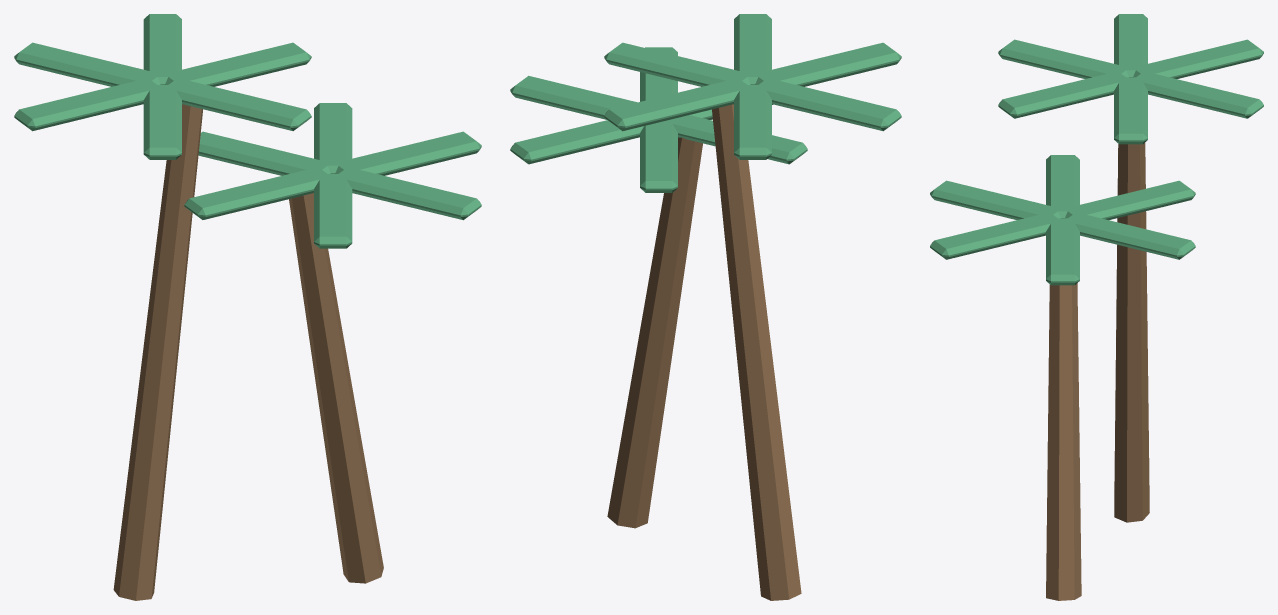
The model's file is palm_cluster.glb.
3 views of the same model, side by side, from view 1: azimuth 30°, elevation 25°; view 2: azimuth 150°, elevation 25°; view 3: azimuth 270°, elevation 25° (orthographic). The views are drawn at different scales.
Visible parts, largest first — view 1: trunk, trunk.001, leaf.003, leaf.009, leaf.011, leaf.005, leaf, leaf.002, leaf.006, leaf.008, leaf.010, leaf.004 (+2 smaller); view 2: trunk, trunk.001, leaf.003, leaf.001, leaf, leaf.004, leaf.007, leaf.002, leaf.008, leaf.006, leaf.005, leaf.009 (+1 smaller); view 3: trunk, trunk.001, leaf.007, leaf.011, leaf.001, leaf.005, leaf.010, leaf.002, leaf.008, leaf.004, leaf, leaf.006 (+2 smaller).
Boxes of the visible parts, x1,y1,x2,y2 form: trunk: (113,104,202,600); trunk.001: (289,193,383,583); leaf.003: (14,78,160,131); leaf.009: (184,167,331,219); leaf.011: (335,167,481,220); leaf.005: (165,79,311,130); leaf: (165,42,311,86); leaf.002: (14,42,160,86); leaf.006: (335,131,481,175); leaf.008: (198,131,330,175); leaf.010: (314,174,352,248); leaf.004: (143,85,181,159); trunk: (712,104,801,600); trunk.001: (607,137,702,528); leaf.003: (755,78,901,131); leaf.001: (604,78,750,131); leaf: (604,42,750,86); leaf.004: (755,42,901,86); leaf.007: (510,120,643,164); leaf.002: (734,85,771,159); leaf.008: (640,119,677,192); leaf.006: (510,75,637,119); leaf.005: (734,14,771,84); leaf.009: (672,115,807,164); trunk: (1114,142,1149,522); trunk.001: (1046,283,1081,600); leaf.007: (1065,212,1195,259); leaf.011: (930,215,1060,259); leaf.001: (1136,74,1263,118); leaf.005: (998,74,1125,118); leaf.010: (930,180,1060,219); leaf.002: (1133,39,1263,78); leaf.008: (1065,180,1195,219); leaf.004: (998,39,1128,78); leaf: (1114,77,1147,144); leaf.006: (1046,218,1079,285).
Size of the model in its own units: 1.26 by 1.47 by 0.9798.
